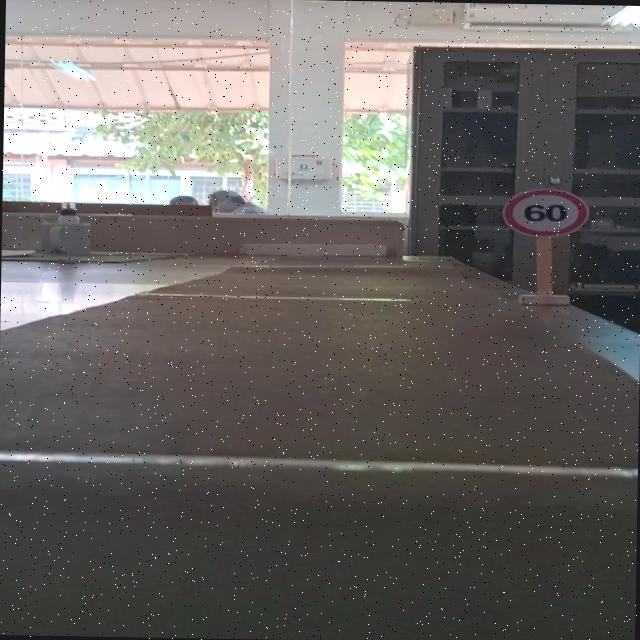Speed60: (498, 186, 592, 240)
